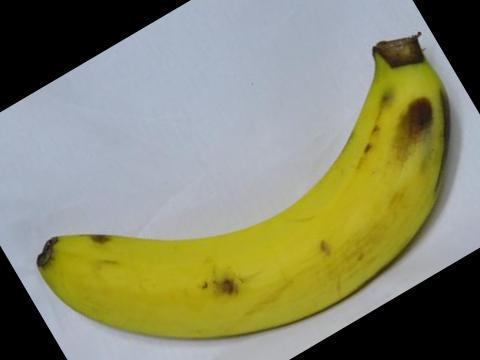freshripe: (21, 20, 466, 358)
